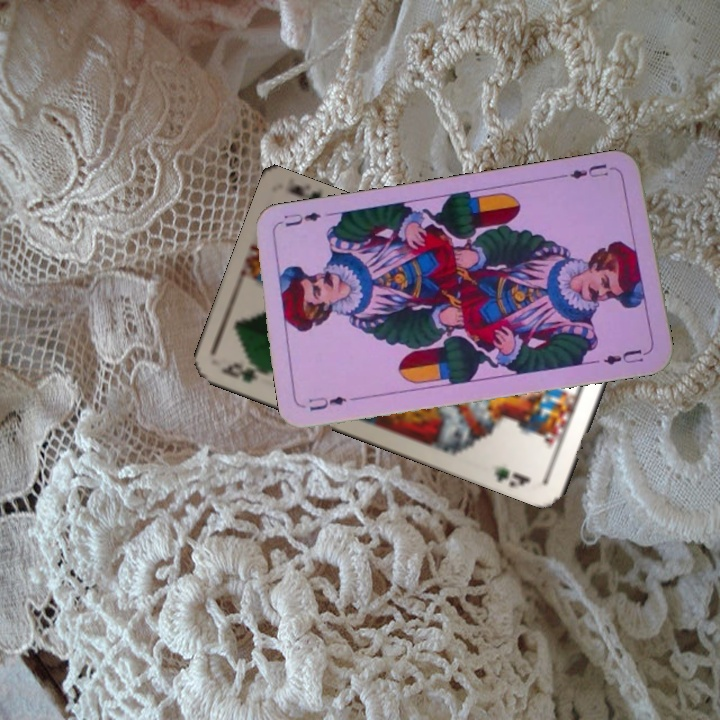EU: (559, 159, 619, 182), (304, 392, 362, 414)
GK: (217, 358, 273, 386)
